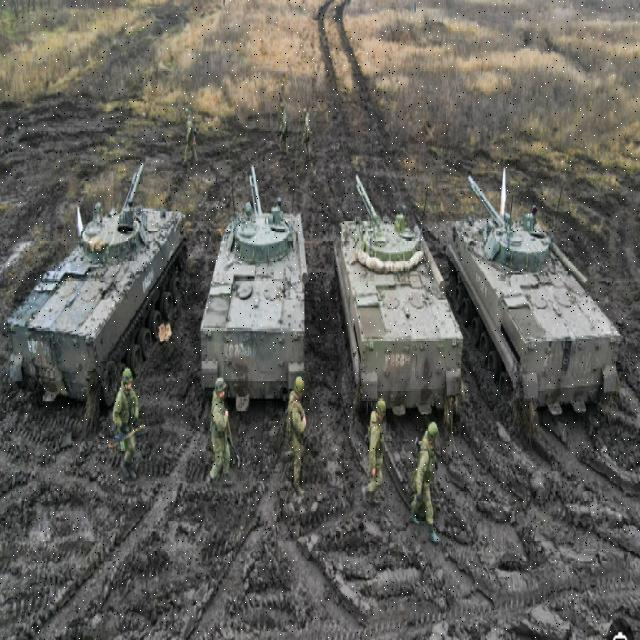APC-IFV: (446, 166, 622, 422), (8, 161, 186, 413), (332, 167, 462, 431), (200, 160, 308, 401)
